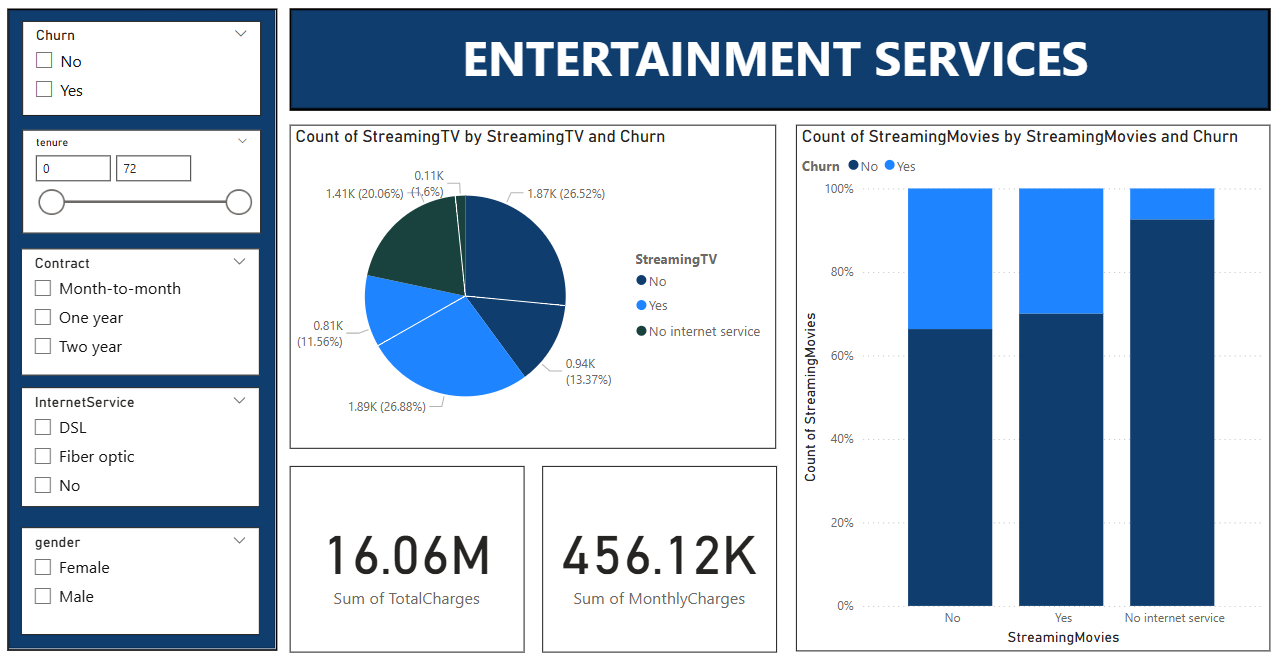

This screenshot's page, from the dashboard's own definition file:
{"tool":"powerbi","page":{"name":"Entertainment Services","canvas":[1280,720],"ordinal":4},"visuals":[{"type":"group","id":"g1","title":"Group 1","box":[11,32.9,269,639.5],"z":0},{"type":"group","id":"g2","title":"Group 2","box":[292.3,32.9,975.6,101.5],"z":1000},{"type":"hundredPercentStackedColumnChart","fields":{"Series":["01 Churn-Dataset.Churn"],"Category":["01 Churn-Dataset.StreamingMovies"],"Y":["CountNonNull(01 Churn-Dataset.StreamingMovies)"]},"box":[795.9,148.2,472,524.2],"z":2000},{"type":"pieChart","fields":{"Category":["01 Churn-Dataset.StreamingTV"],"Y":["CountNonNull(01 Churn-Dataset.StreamingTV)"],"Series":["01 Churn-Dataset.Churn"]},"box":[292.3,148.2,484.4,322.5],"z":3000},{"type":"shape","box":[11,32.9,269,639.5],"z":4000,"group":"g1"},{"type":"card","fields":{"Values":["Sum(01 Churn-Dataset.TotalCharges)"]},"box":[292.3,487.1,233.3,185.2],"z":4000},{"type":"shape","box":[292.3,32.9,975.6,101.5],"z":5000,"group":"g2"},{"type":"slicer","fields":{"Values":["01 Churn-Dataset.Churn"]},"box":[26.1,45.2,237.4,94.7],"z":5000,"group":"g1"},{"type":"card","fields":{"Values":["Sum(01 Churn-Dataset.MonthlyCharges)"]},"box":[543.4,487.1,233.3,185.2],"z":5000},{"type":"textbox","box":[342.5,42.6,867.2,76.8],"z":6000,"group":"g2"},{"type":"slicer","fields":{"Values":["01 Churn-Dataset.tenure"]},"box":[26.1,153.7,237.4,102.9],"z":6000,"group":"g1"},{"type":"slicer","fields":{"Values":["01 Churn-Dataset.Contract"]},"box":[24.7,271.7,237.4,126.2],"z":7000,"group":"g1"},{"type":"slicer","fields":{"Values":["01 Churn-Dataset.InternetService"]},"box":[24.7,410.3,237.4,119.4],"z":8000,"group":"g1"},{"type":"slicer","fields":{"Values":["01 Churn-Dataset.gender"]},"box":[24.7,548.9,237.4,107],"z":9000,"group":"g1"}]}

Visuals, with their boxes on the page's 1280x720 design canvas (x1, y1, x2, y2). These are canvas units, not pixel positions in the 1277x665 screenshot, which may show the page scaled, cropped or inside an application window:
"Group 1" group: crop(11, 33, 280, 672)
"Group 2" group: crop(292, 33, 1268, 134)
hundredPercentStackedColumnChart - 01 Churn-Dataset.Churn x 01 Churn-Dataset.StreamingMovies: crop(796, 148, 1268, 672)
pieChart - 01 Churn-Dataset.StreamingTV x CountNonNull(01 Churn-Dataset.StreamingTV): crop(292, 148, 777, 471)
shape: crop(11, 33, 280, 672)
card - Sum(01 Churn-Dataset.TotalCharges): crop(292, 487, 526, 672)
shape: crop(292, 33, 1268, 134)
slicer - 01 Churn-Dataset.Churn: crop(26, 45, 264, 140)
card - Sum(01 Churn-Dataset.MonthlyCharges): crop(543, 487, 777, 672)
textbox: crop(342, 43, 1210, 119)
slicer - 01 Churn-Dataset.tenure: crop(26, 154, 264, 257)
slicer - 01 Churn-Dataset.Contract: crop(25, 272, 262, 398)
slicer - 01 Churn-Dataset.InternetService: crop(25, 410, 262, 530)
slicer - 01 Churn-Dataset.gender: crop(25, 549, 262, 656)
